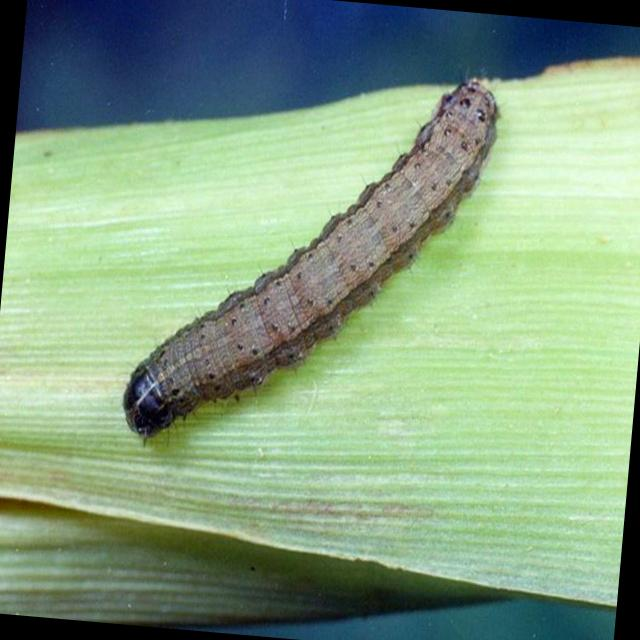pest: (127, 57, 511, 459)
